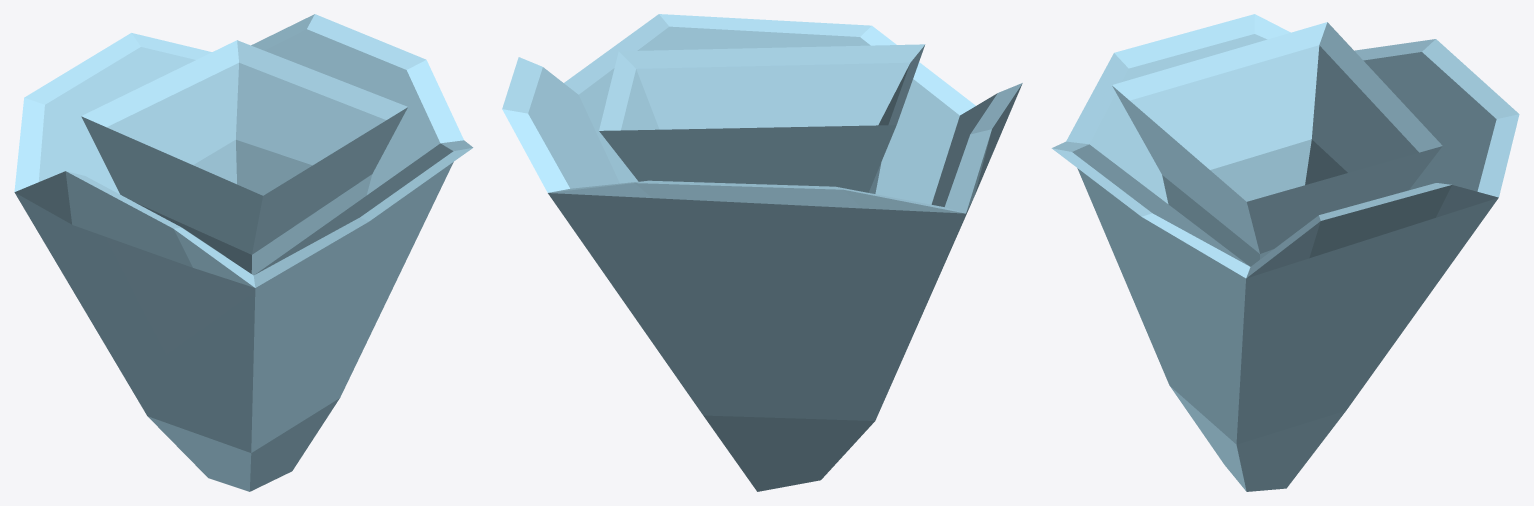
File: flower_blue.glb
The picture shows the model from 3 angles, left to right: view 1: azimuth 30°, elevation 25°; view 2: azimuth 150°, elevation 25°; view 3: azimuth 270°, elevation 25°; orthographic projection. The views are drawn at different scales.
Visible parts, largest first — view 1: Icosphere; view 2: Icosphere; view 3: Icosphere.
Boxes of the visible parts, x1=… form: Icosphere: x1=14, y1=14, x2=473, y2=491; Icosphere: x1=502, y1=14, x2=1022, y2=491; Icosphere: x1=1051, y1=14, x2=1519, y2=491.
Bounding box in the file's own units: 0.0935 × 0.0829 × 0.0894.
